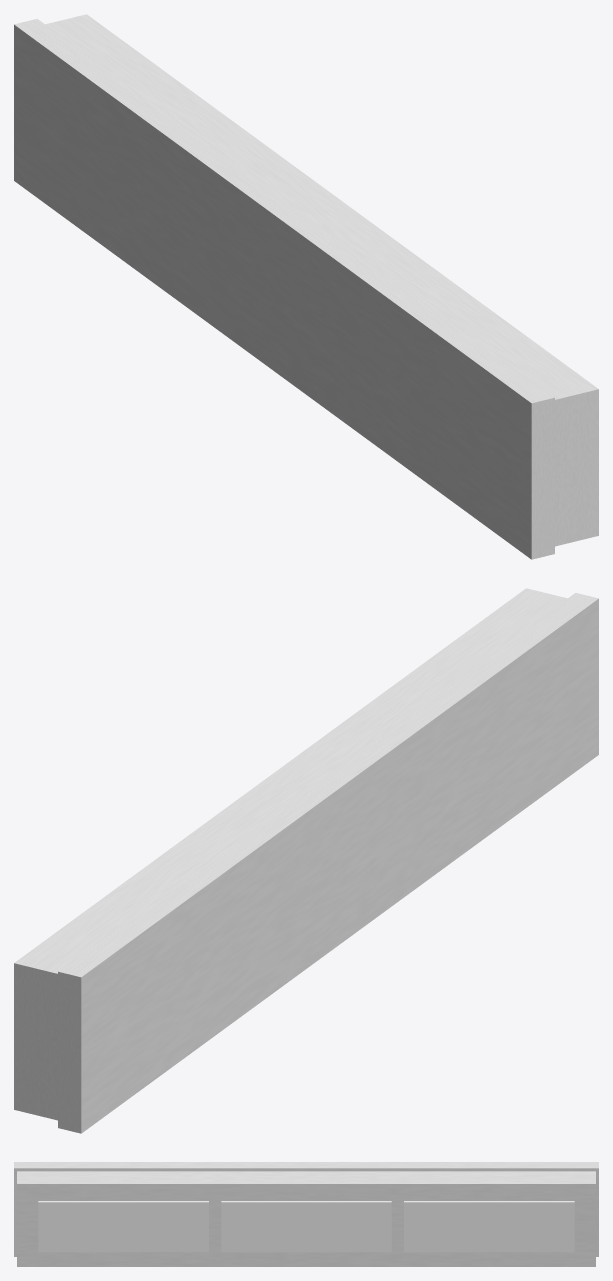
The model's file is poollinearlight.obj.
The picture shows the model from 3 angles, top to bottom: view 1: azimuth 30°, elevation 25°; view 2: azimuth 150°, elevation 25°; view 3: azimuth 270°, elevation 25°; orthographic projection. The views are drawn at different scales.
Parts seen in each view (by area): view 1: Base, Metal; view 2: Base, Metal; view 3: Metal, Light0, Light1, Light2, Base.
Part boxes in pixels (x1,y1,x2,y2): Base: (14, 19, 554, 559); Metal: (45, 14, 598, 546); Base: (58, 593, 598, 1133); Metal: (14, 588, 567, 1120); Metal: (17, 1171, 595, 1266); Light0: (404, 1201, 574, 1252); Light1: (221, 1201, 391, 1252); Light2: (38, 1201, 208, 1252); Base: (14, 1162, 598, 1256).
Bounding box in the file's own units: 0.082 × 0.16 × 0.96.
